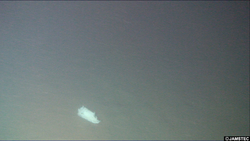plastic bag: (74, 104, 104, 128)
